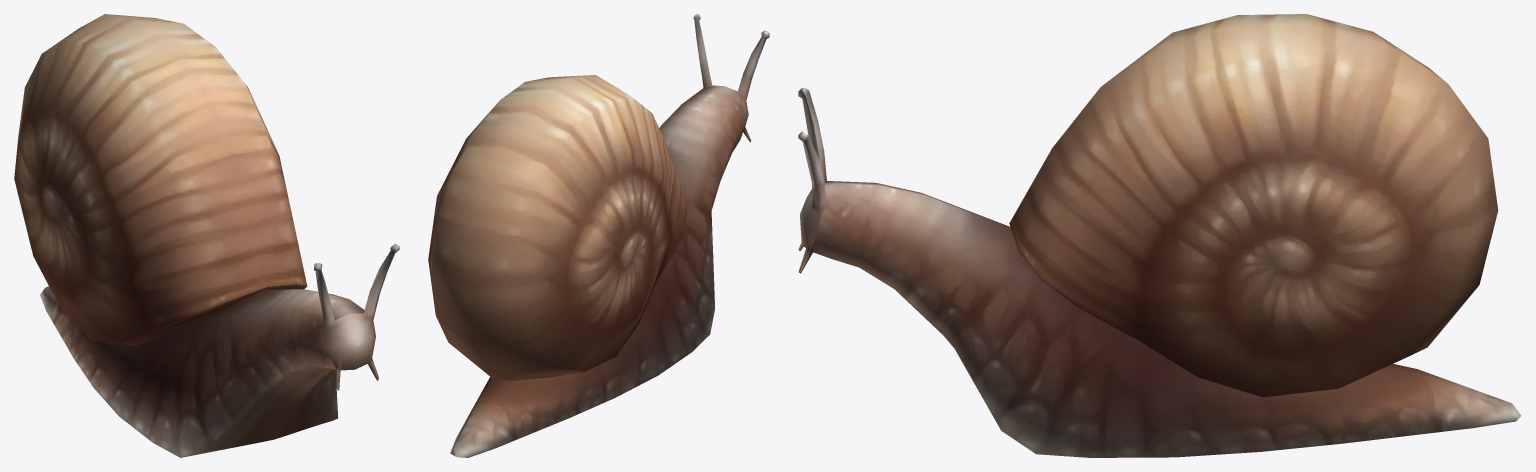
The model's file is Snail.glb.
3 views of the same model, side by side, from view 1: azimuth 30°, elevation 25°; view 2: azimuth 150°, elevation 25°; view 3: azimuth 270°, elevation 25° (orthographic). The views are drawn at different scales.
Parts seen in each view (by area): view 1: Obj3d66-12346381-2-163; view 2: Obj3d66-12346381-2-163; view 3: Obj3d66-12346381-2-163.
Part boxes in pixels (x1,y1,x2,y2): Obj3d66-12346381-2-163: (14,14,399,457); Obj3d66-12346381-2-163: (428,14,769,457); Obj3d66-12346381-2-163: (798,14,1521,457).
Size of the model in its own units: 0.4686 by 0.7702 by 1.29.
Materials: 1 (1 with a texture image).
